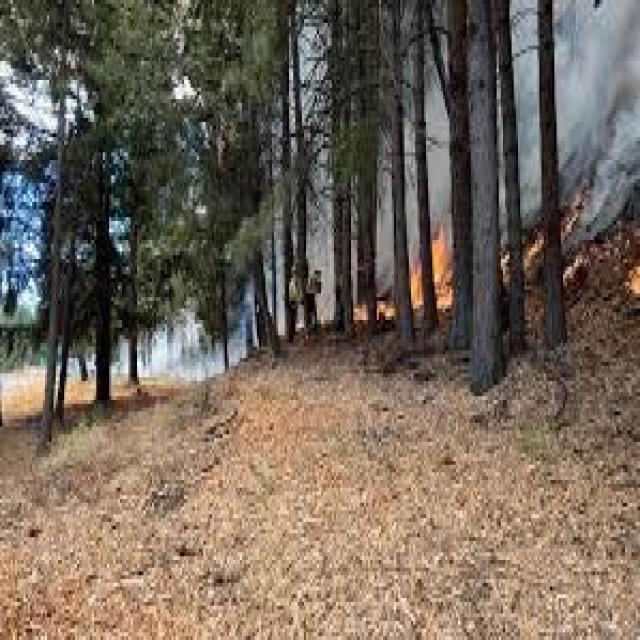Fire: (408, 221, 460, 310), (624, 243, 640, 320)
Smoke: (568, 0, 640, 242)
